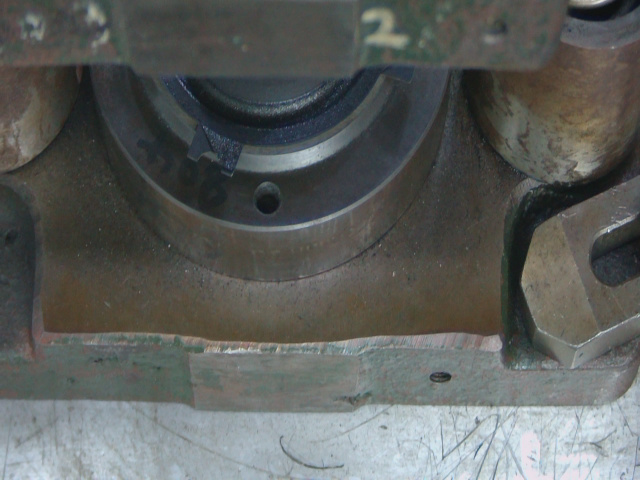OK: (188, 124, 252, 185)
